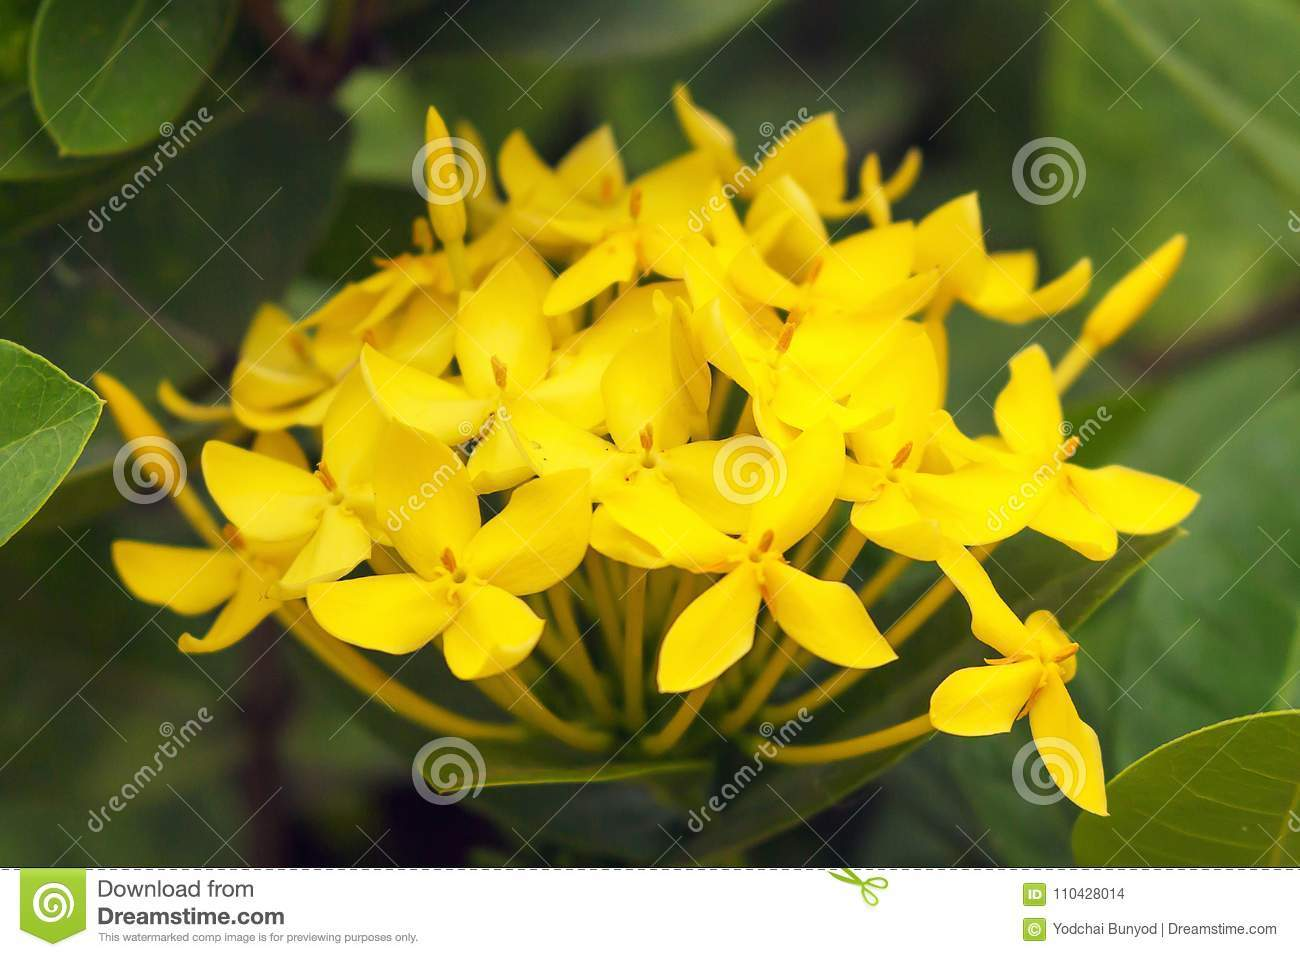ixora: (612, 448, 887, 677), (338, 436, 585, 668), (944, 358, 1194, 545), (938, 545, 1109, 817), (357, 293, 605, 469), (103, 499, 313, 637), (559, 196, 693, 304)
